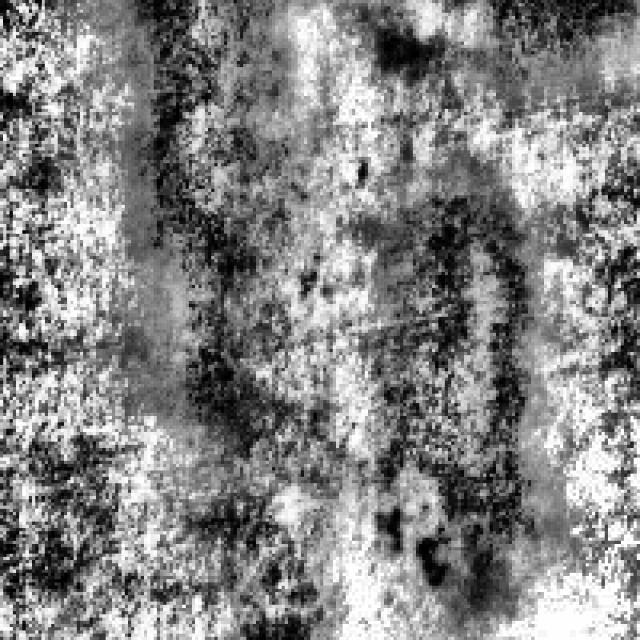Scratches: (112, 0, 310, 483), (364, 163, 554, 605), (358, 0, 637, 80)
